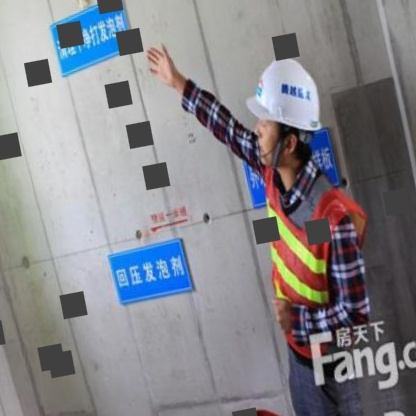vest: (240, 146, 394, 364)
white: (230, 49, 328, 149)
